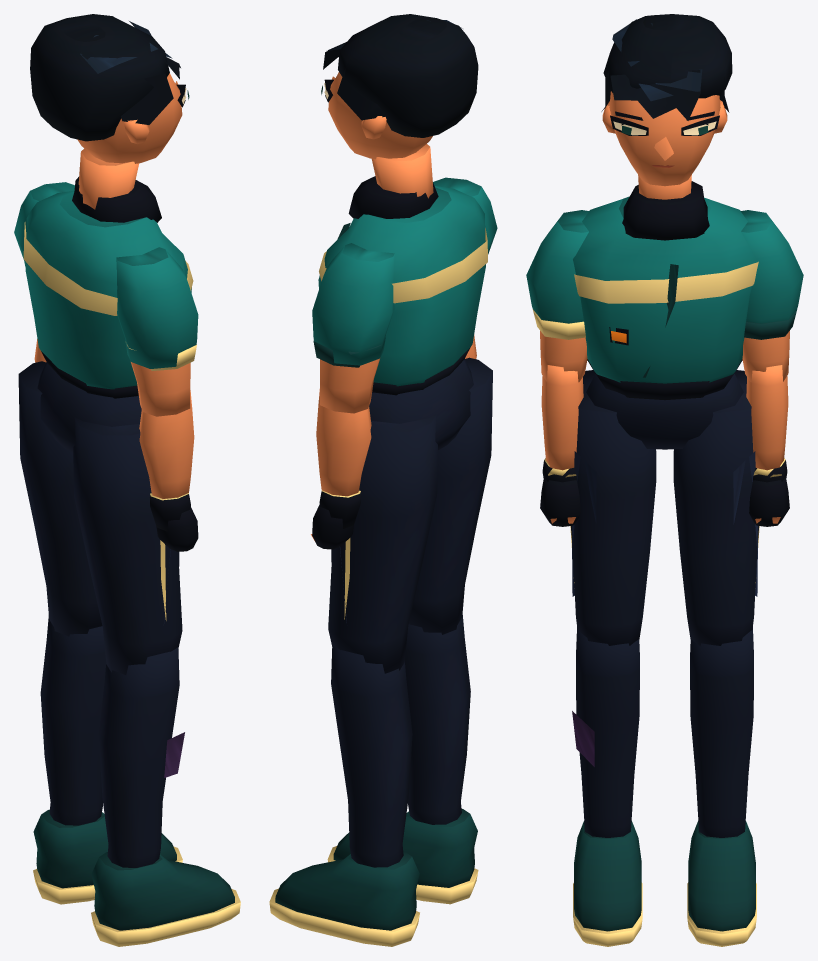
Rendered from courier.glb.
3 renders of one model, left to right at view 1: azimuth 30°, elevation 25°; view 2: azimuth 150°, elevation 25°; view 3: azimuth 270°, elevation 25°, orthographic. The views are drawn at different scales.
Parts seen in each view (by area): view 1: torso mesh, knee_near mesh, head mesh, leg_near mesh, knee_far mesh, leg_far mesh, arm_near mesh, elbow_near mesh, hand mesh, arm_far mesh; view 2: torso mesh, knee_far mesh, head mesh, leg_far mesh, knee_near mesh, leg_near mesh, arm_far mesh, elbow_far mesh, hand.001 mesh, arm_near mesh; view 3: torso mesh, knee_near mesh, knee_far mesh, head mesh, leg_far mesh, leg_near mesh, arm_near mesh, arm_far mesh, elbow_far mesh, elbow_near mesh, hand.001 mesh, hand mesh.
Boxes of the visible parts, <box> form: torso mesh: <box>23,177,193,452</box>; knee_near mesh: <box>91,647,240,946</box>; head mesh: <box>30,14,189,209</box>; leg_near mesh: <box>73,417,182,674</box>; knee_far mesh: <box>33,615,182,904</box>; leg_far mesh: <box>18,361,102,636</box>; arm_near mesh: <box>116,247,198,416</box>; elbow_near mesh: <box>139,390,194,531</box>; hand mesh: <box>156,507,198,551</box>; arm_far mesh: <box>14,182,74,266</box>; torso mesh: <box>318,176,487,450</box>; knee_far mesh: <box>269,645,419,946</box>; head mesh: <box>321,14,478,198</box>; leg_far mesh: <box>328,414,437,673</box>; knee_near mesh: <box>327,615,478,904</box>; leg_near mesh: <box>408,357,492,634</box>; arm_far mesh: <box>312,243,394,413</box>; elbow_far mesh: <box>316,389,371,528</box>; hand.001 mesh: <box>311,505,353,549</box>; arm_near mesh: <box>433,177,497,254</box>; torso mesh: <box>573,181,758,449</box>; knee_near mesh: <box>572,627,642,946</box>; knee_far mesh: <box>687,627,756,946</box>; head mesh: <box>601,14,732,199</box>; leg_far mesh: <box>673,370,759,646</box>; leg_near mesh: <box>570,370,656,645</box>; arm_near mesh: <box>526,210,589,382</box>; arm_far mesh: <box>740,210,803,382</box>; elbow_far mesh: <box>746,365,788,482</box>; elbow_near mesh: <box>541,365,583,482</box>; hand.001 mesh: <box>749,477,789,526</box>; hand mesh: <box>540,477,580,526</box>.
Size of the model in its own units: 0.374 by 1.95 by 0.564.
Materials: 1 (1 with a texture image).
